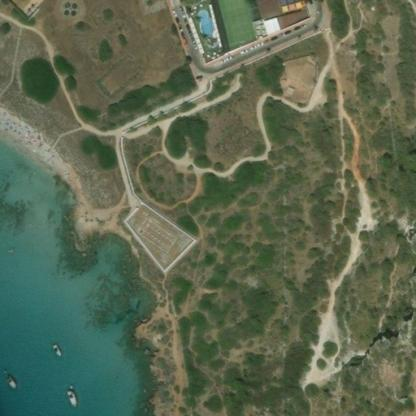ship: (60, 380, 83, 410), (2, 370, 20, 390), (46, 339, 64, 358)
